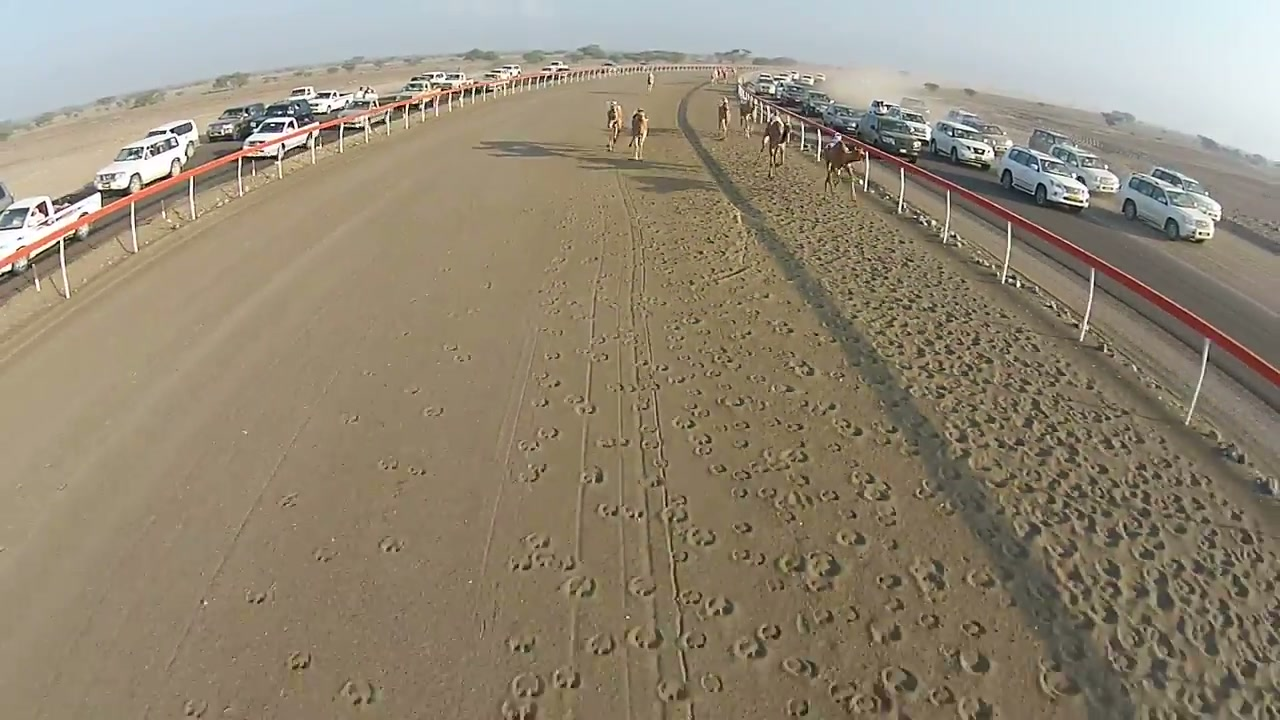animal_foot_print: (510, 143, 1274, 716), (649, 283, 968, 715), (477, 243, 675, 717), (338, 678, 378, 706), (287, 651, 312, 671)
